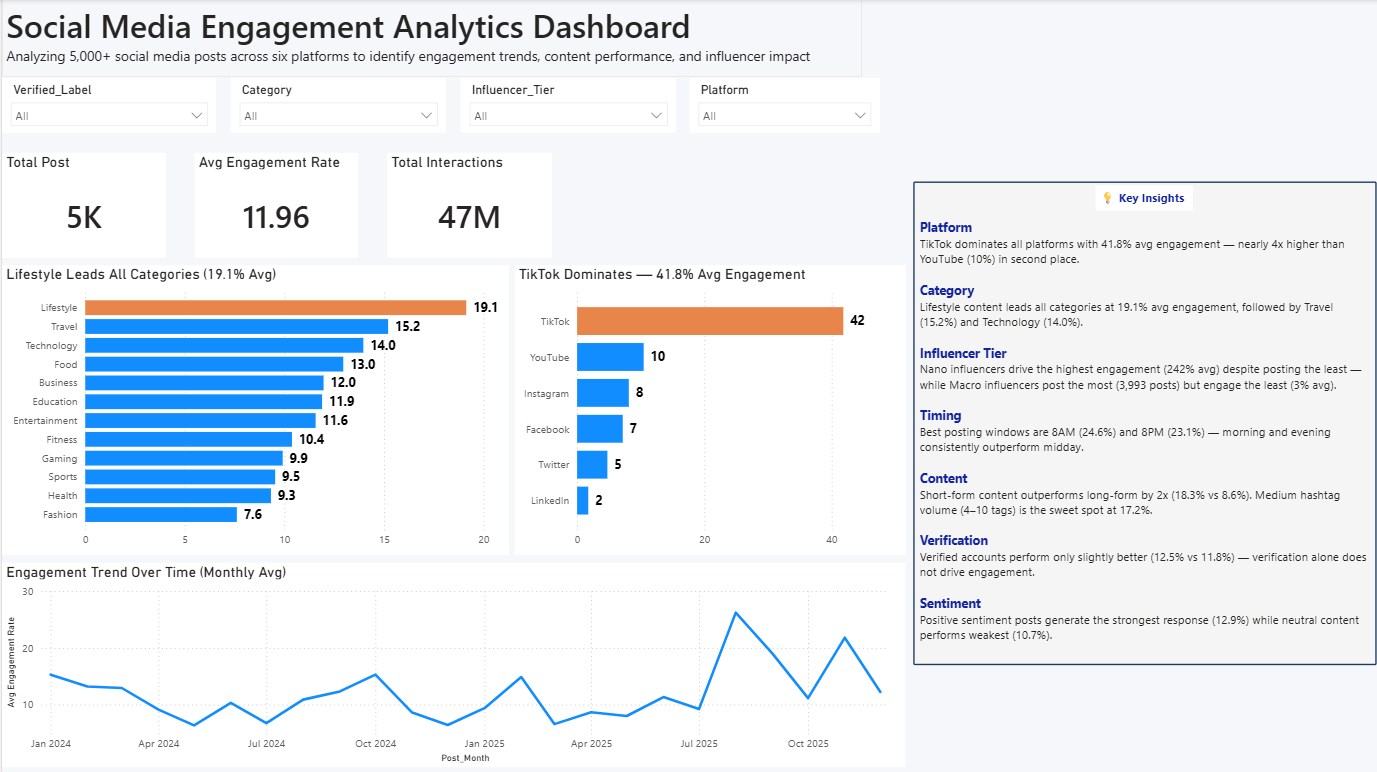

Layout of this report page (visuals, bound fields, positions):
{"tool":"powerbi","page":{"name":"Overview ","canvas":[1600,900],"ordinal":0},"visuals":[{"type":"cardVisual","title":"Total Post","fields":{"Data":["CountNonNull(posts.Post_ID)"]},"box":[11.6,178.8,190.4,122.1],"z":0},{"type":"cardVisual","title":"Avg Engagement Rate","fields":{"Data":["posts.Avg Engagement Rate"]},"box":[230.1,178.1,190.6,122.4],"z":1000},{"type":"cardVisual","title":"Total Interactions","fields":{"Data":["Sum(posts.Total_Interactions)"]},"box":[448.8,178.1,192,122.4],"z":2000},{"type":"clusteredBarChart","title":"Lifestyle Leads All Categories (19.1% Avg)","fields":{"Category":["posts.Category"],"Y":["posts.Avg Engagement Rate"]},"box":[0,310.3,590,336.7],"z":3000},{"type":"barChart","title":"TikTok Dominates — 41.8% Avg Engagement","fields":{"Category":["posts.Platform"],"Y":["posts.Avg Engagement Rate"]},"box":[595.6,310.3,455,336.7],"z":4000},{"type":"lineChart","title":"Engagement Trend Over Time (Monthly Avg)","fields":{"Category":["posts.Post_Month"],"Y":["posts.Avg Engagement Rate"]},"box":[0,655.4,1050.6,237.9],"z":5000},{"type":"textbox","box":[0,0,1000.5,91.8],"z":6000},{"type":"slicer","fields":{"Values":["posts.Platform"]},"box":[800.1,91.8,221.2,64],"z":7000},{"type":"slicer","fields":{"Values":["posts.Category"]},"box":[265.8,91.8,250.5,64],"z":8000},{"type":"slicer","fields":{"Values":["posts.Influencer_Tier"]},"box":[532.9,91.8,250.5,64],"z":9000},{"type":"slicer","fields":{"Values":["posts.Verified_Label"]},"box":[0,91.8,249.1,64],"z":10000},{"type":"textbox","box":[1055.2,7.3,540.7,562.5],"z":11000},{"type":"cardVisual","title":"Highest Engagement Rate","fields":{"Data":["Sum(posts.Engagement_Rate)"]},"box":[669,178.4,301.9,123.5],"z":12000},{"type":"donutChart","title":"Engagement by Platform","fields":{"Category":["posts.Platform"],"Y":["Sum(posts.Total_Interactions)"]},"box":[1055.2,578.5,540.7,315.4],"z":13000}]}

Visuals, with their boxes in screenshot pixels (x1, y1, x2, y2), scaled from the page's 1600x900 canvas onto the 1377x772 screenshot:
"Total Post" cardVisual: (10,153,174,258)
"Avg Engagement Rate" cardVisual: (198,153,362,258)
"Total Interactions" cardVisual: (386,153,551,258)
"Lifestyle Leads All Categories (19.1% Avg)" clusteredBarChart: (0,266,508,555)
"TikTok Dominates — 41.8% Avg Engagement" barChart: (513,266,904,555)
"Engagement Trend Over Time (Monthly Avg)" lineChart: (0,562,904,766)
textbox: (0,0,861,79)
slicer - posts.Platform: (689,79,879,134)
slicer - posts.Category: (229,79,444,134)
slicer - posts.Influencer_Tier: (459,79,674,134)
slicer - posts.Verified_Label: (0,79,214,134)
textbox: (908,6,1373,489)
"Highest Engagement Rate" cardVisual: (576,153,836,259)
"Engagement by Platform" donutChart: (908,496,1373,767)
